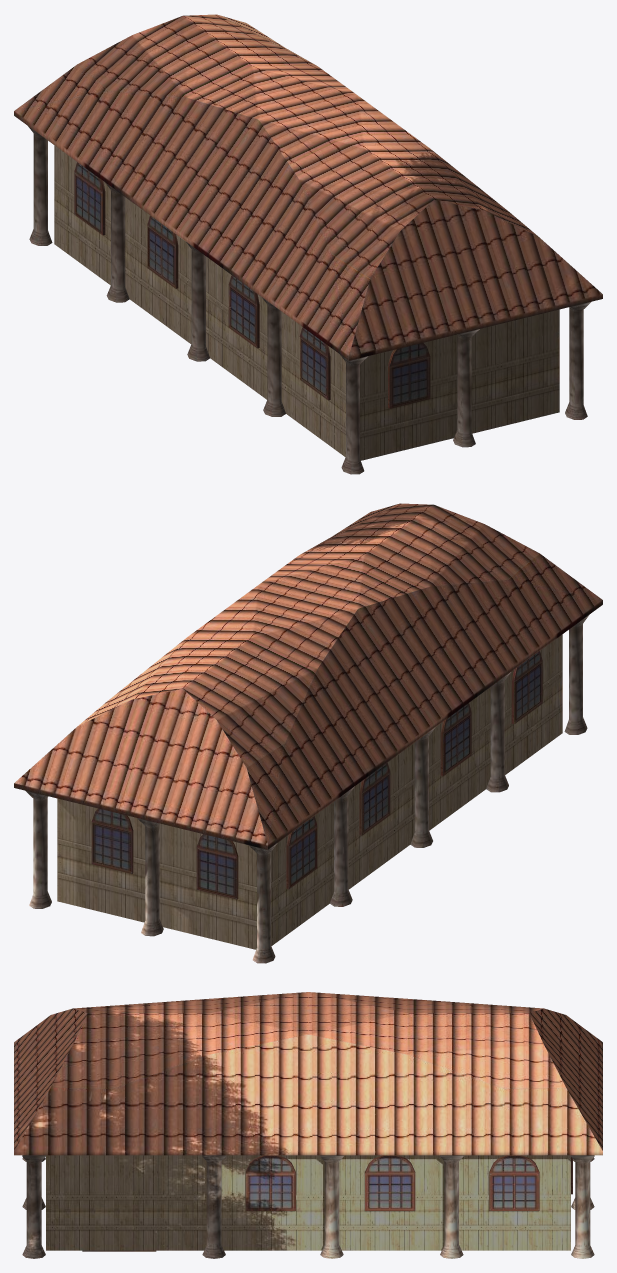
Rendered from CasaG.fbx.
3 views of the same model, one above another, from view 1: azimuth 30°, elevation 25°; view 2: azimuth 150°, elevation 25°; view 3: azimuth 270°, elevation 25° (orthographic). The views are drawn at different scales.
Visible parts, largest first — view 1: Gom_CasaG_00; view 2: Gom_CasaG_00; view 3: Gom_CasaG_00.
Boxes of the visible parts, box(x1,y1,x2,y2) form: Gom_CasaG_00: box(14, 14, 602, 474); Gom_CasaG_00: box(14, 503, 602, 963); Gom_CasaG_00: box(14, 992, 602, 1258).
Bounding box in the file's own units: 6.03 × 5 × 13.78.
